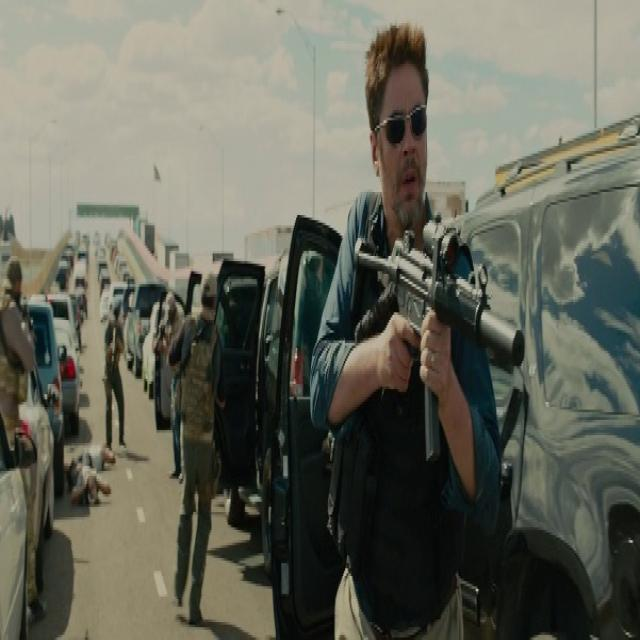rifle: (348, 231, 529, 476)
